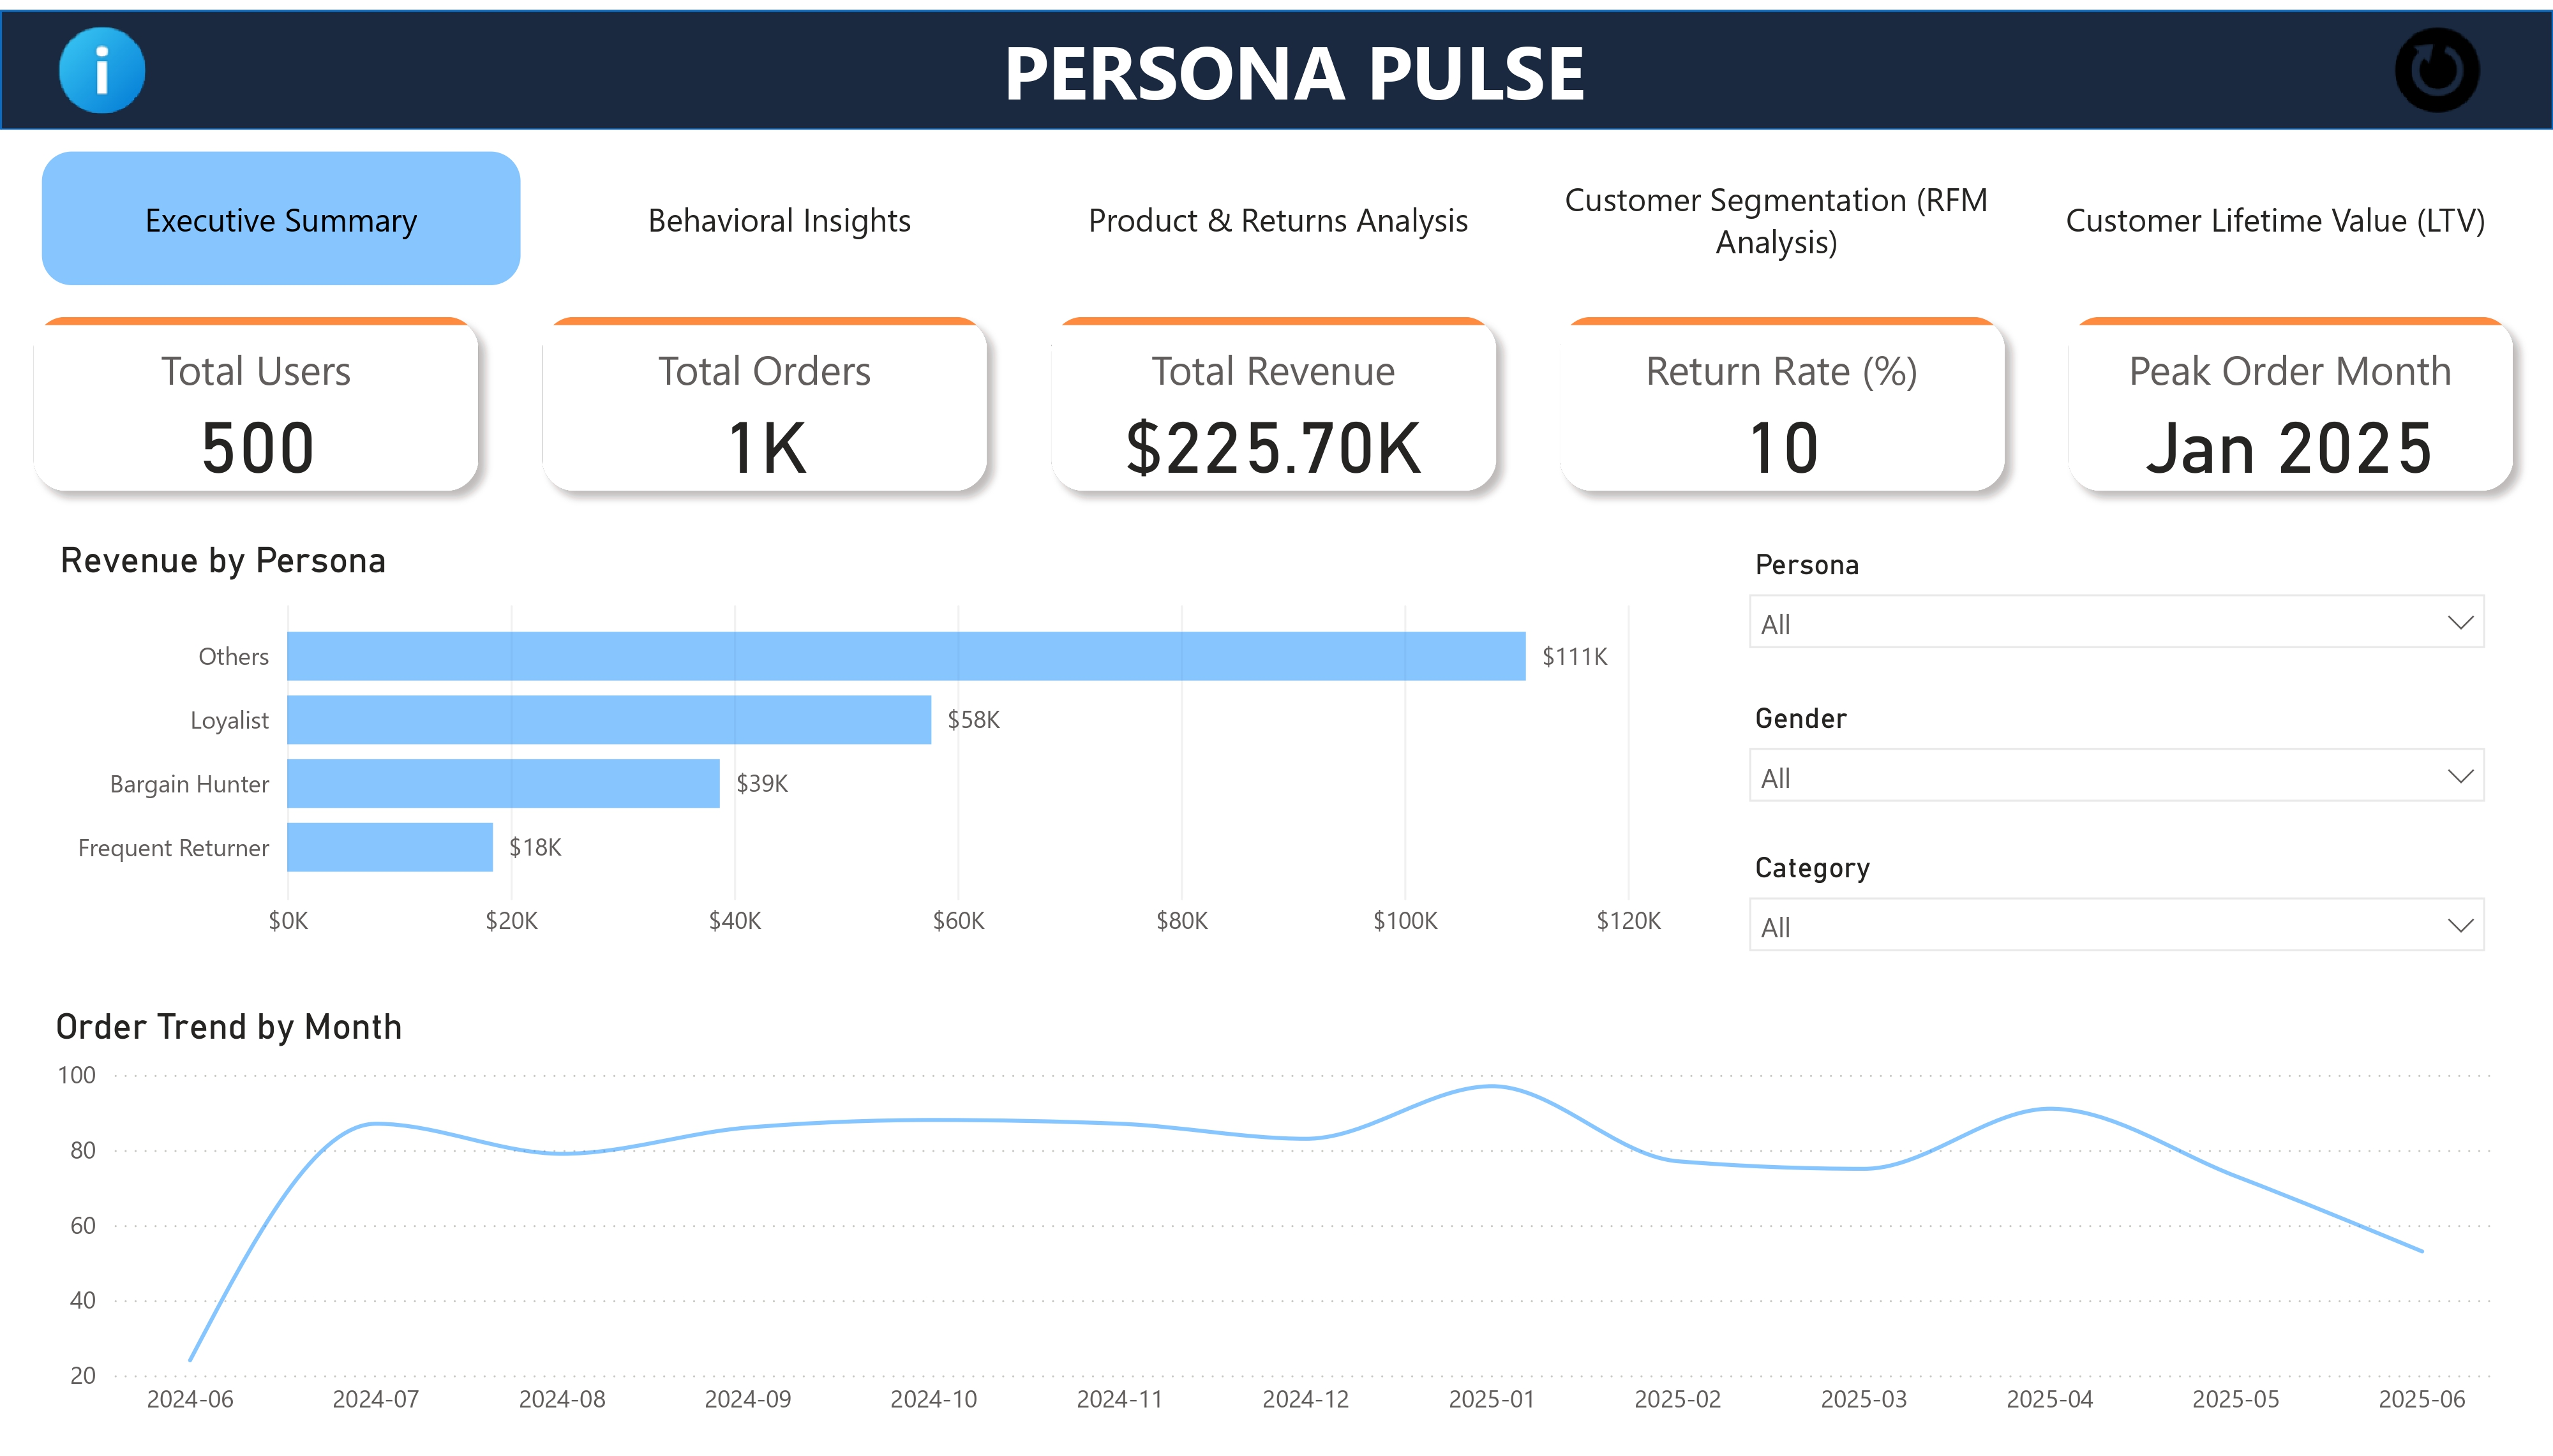

Layout of this report page (visuals, bound fields, positions):
{"tool":"powerbi","page":{"name":"Executive Summary","canvas":[1280,720],"ordinal":0},"visuals":[{"type":"shape","box":[0,0,1280.3,60.4],"z":0},{"type":"textbox","box":[374.6,0,547.5,60.4],"z":1000},{"type":"cardVisual","fields":{"Data":["orders.Total Users","orders.Total Orders","orders.Total Revenue","orders.Return Rate (%)","OrderMonthSummary.Peak Order Month"]},"box":[0,137.1,1280,121.4],"z":2000},{"type":"barChart","title":"Revenue by Persona","fields":{"Y":["Sum(orders.amount)"],"Category":["users.persona"]},"box":[18.6,258.6,830,221.4],"z":3000},{"type":"lineChart","title":"Order Trend by Month","fields":{"Y":["Count(orders.order_id)"],"Category":["orders.Order Month"]},"box":[17.1,492.9,1245.7,227.1],"z":4000},{"type":"slicer","fields":{"Values":["users.persona"]},"box":[861.4,258.6,401.4,68.6],"z":5000},{"type":"slicer","fields":{"Values":["users.gender"]},"box":[861.4,335.7,401.4,68.6],"z":6000},{"type":"slicer","fields":{"Values":["products.category"]},"box":[861.4,411.4,401.4,68.6],"z":7000},{"type":"actionButton","box":[1181.5,0,82.3,60.4],"z":8000},{"type":"pageNavigator","box":[20.6,71.4,1243.2,67.2],"z":9000},{"type":"actionButton","box":[20.6,0,64.5,60.4],"z":9001}]}

Visuals, with their boxes in screenshot pixels (x1, y1, x2, y2), scaled from the page's 1280x720 canvas onto the 2553x1456 screenshot:
shape: rect(0, 0, 2552, 122)
textbox: rect(747, 0, 1839, 122)
cardVisual - orders.Total Users x orders.Total Orders: rect(0, 278, 2552, 523)
"Revenue by Persona" barChart: rect(37, 523, 1693, 970)
"Order Trend by Month" lineChart: rect(34, 997, 2519, 1455)
slicer - users.persona: rect(1718, 523, 2519, 662)
slicer - users.gender: rect(1718, 679, 2519, 817)
slicer - products.category: rect(1718, 832, 2519, 970)
actionButton: rect(2356, 0, 2520, 122)
pageNavigator: rect(41, 144, 2520, 280)
actionButton: rect(41, 0, 170, 122)
